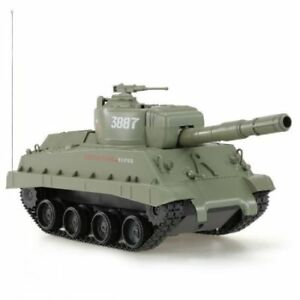Battle Tank: (6, 83, 293, 253)
